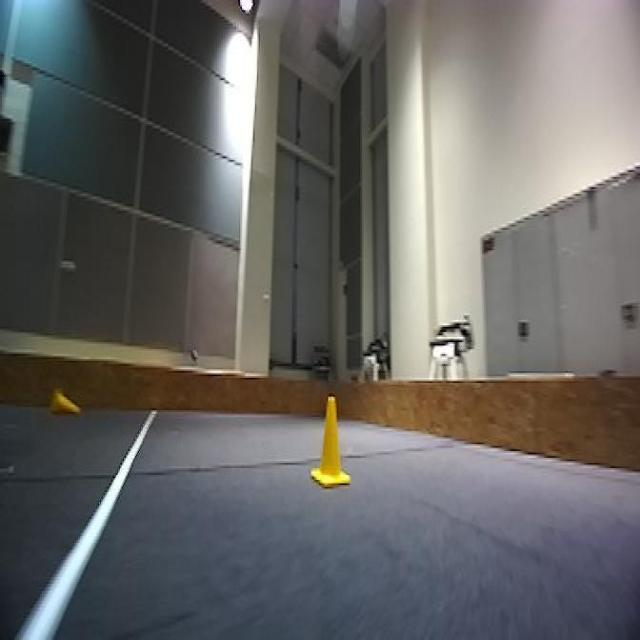frc_cone: (310, 393, 352, 497), (46, 388, 81, 417)
